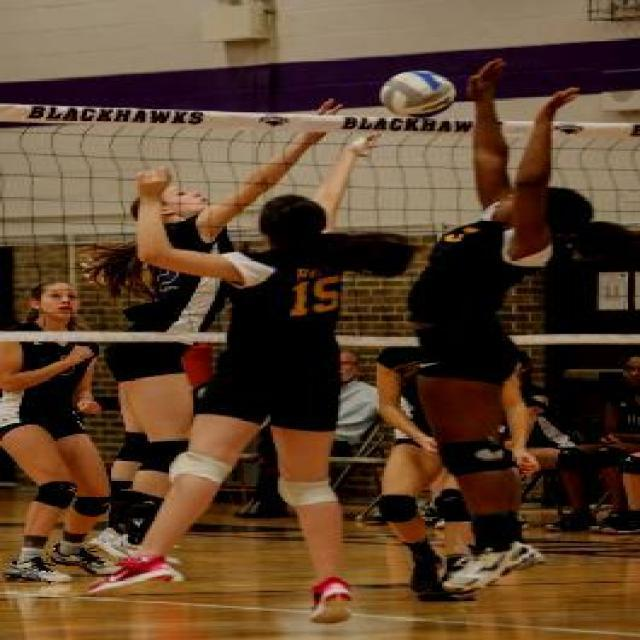volleyball: (380, 71, 458, 117)
